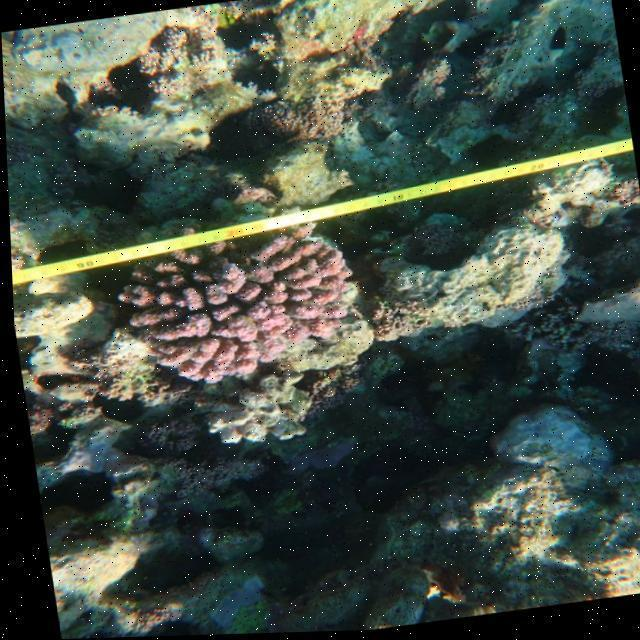Healthy Coral: (107, 219, 357, 404)
